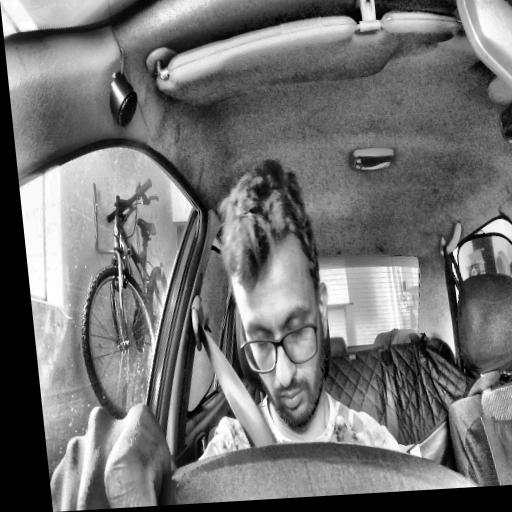drowsy: (215, 155, 341, 429)
